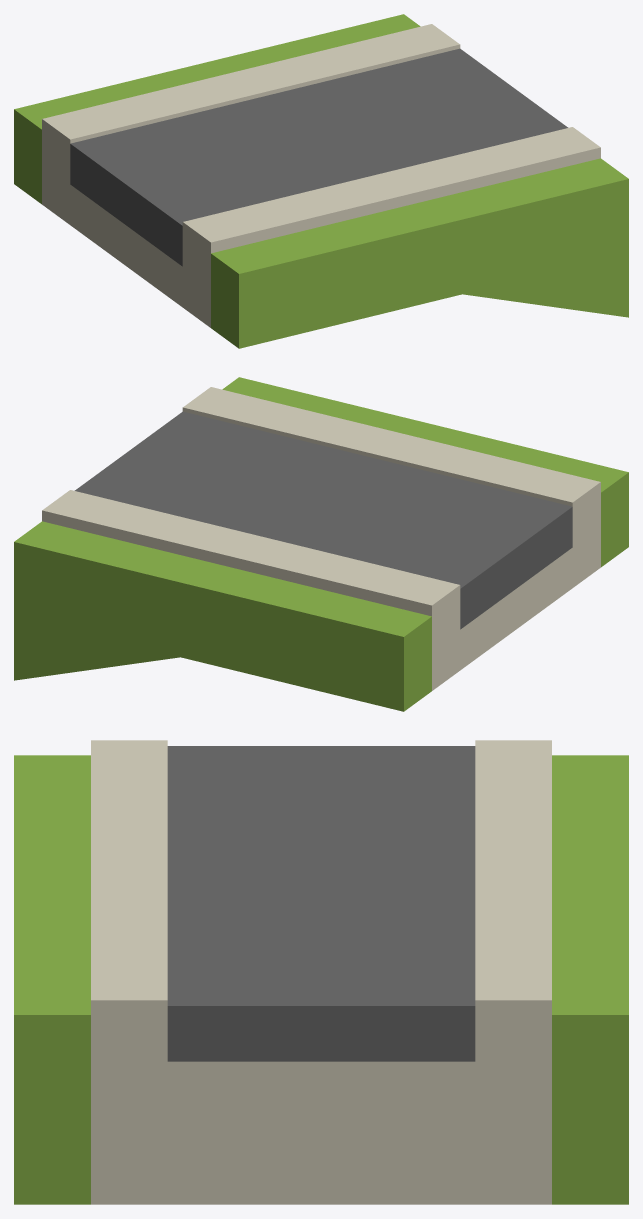
File: roadTile_181.fbx
The picture shows the model from 3 angles, top to bottom: view 1: azimuth 30°, elevation 25°; view 2: azimuth 150°, elevation 25°; view 3: azimuth 270°, elevation 25°; orthographic projection. The views are drawn at different scales.
Visible parts, largest first — view 1: roadTile_181; view 2: roadTile_181; view 3: roadTile_181.
Part boxes in pixels (bbox=[...]): roadTile_181: bbox=[14, 14, 628, 348]; roadTile_181: bbox=[14, 377, 628, 711]; roadTile_181: bbox=[14, 740, 628, 1204].
Bounding box in the file's own units: 118 × 43.31 × 118.
